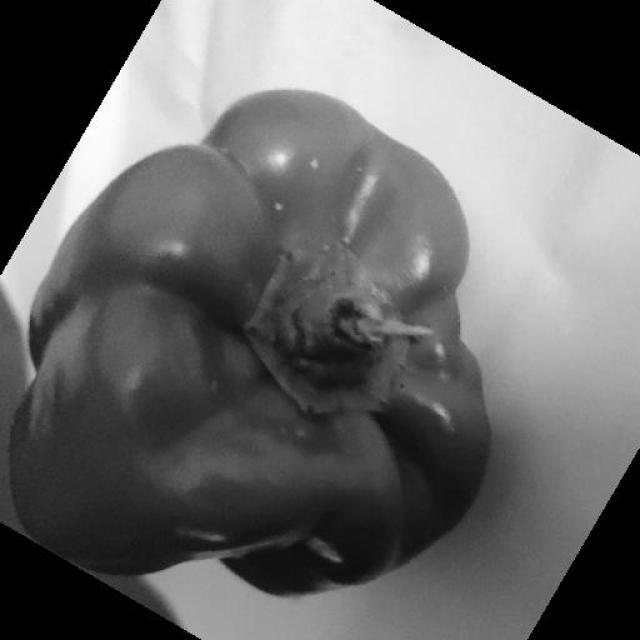Fresh_Capsicum: (25, 120, 478, 568)
